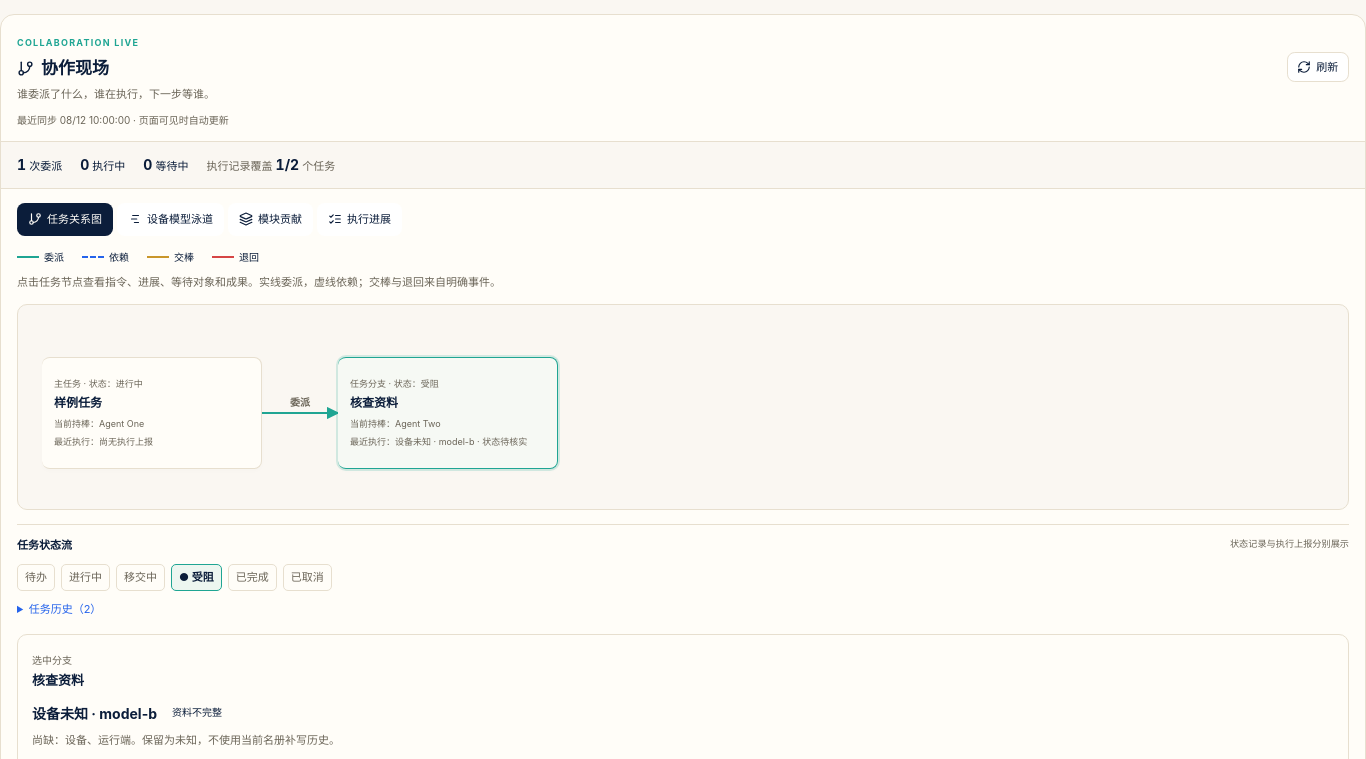
Test: 任务协作现场 › 租约term相同但已经过期时不再显示执行中
Expected: the element named "已记录的协作概况" shows "0 执行中", left=1, top=141, right=1365, bottom=188
Click the button "执行进展" at (360, 219), box left=317, top=202, right=402, bottom=236
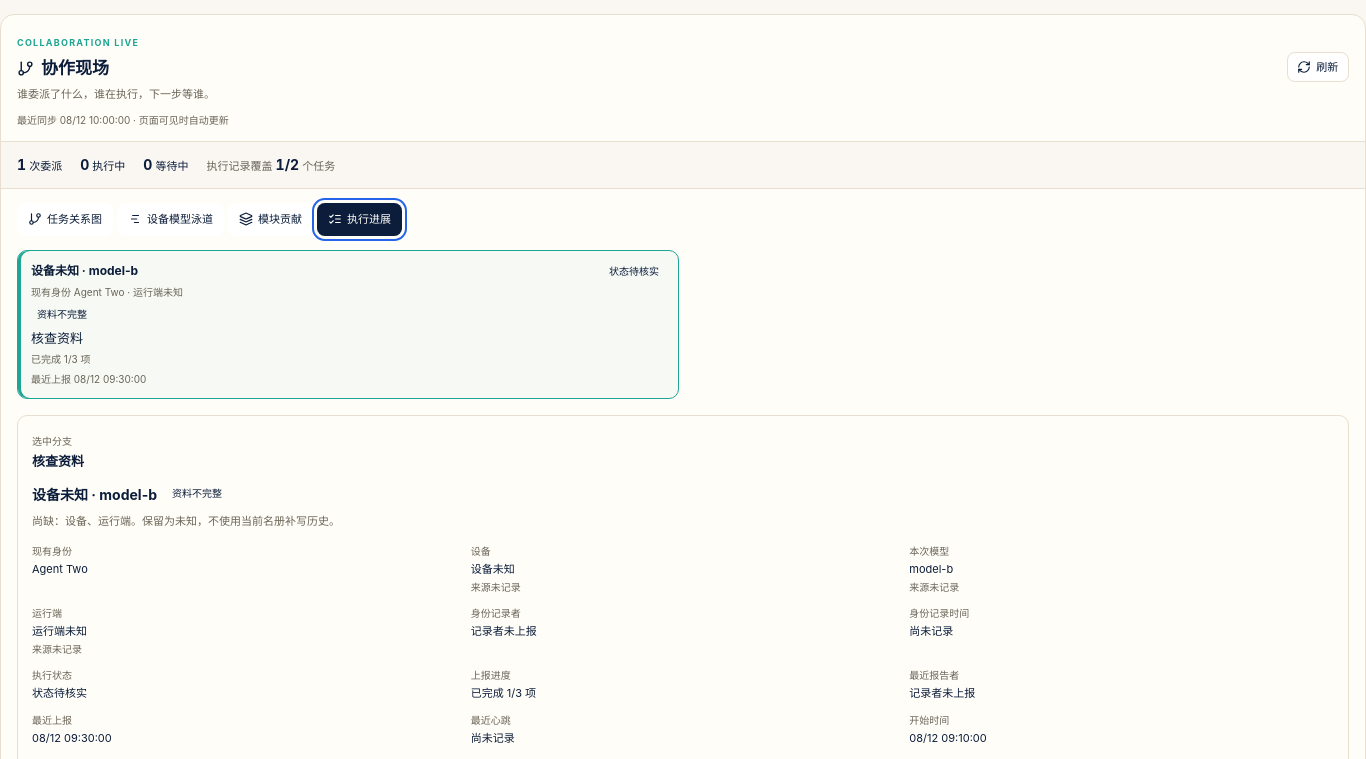
Expected: the button with aria-label "设备未知 · model-b · Agent Two · 状态待核实 · 核查资料" is shown, left=17, top=250, right=679, bottom=399
